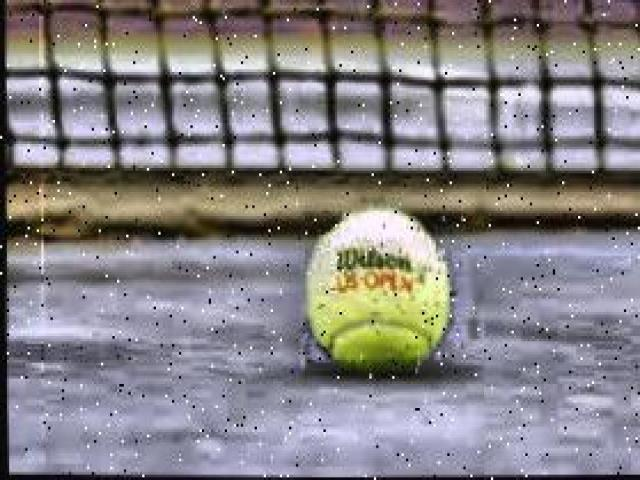tennis-ball: (302, 208, 451, 377)
